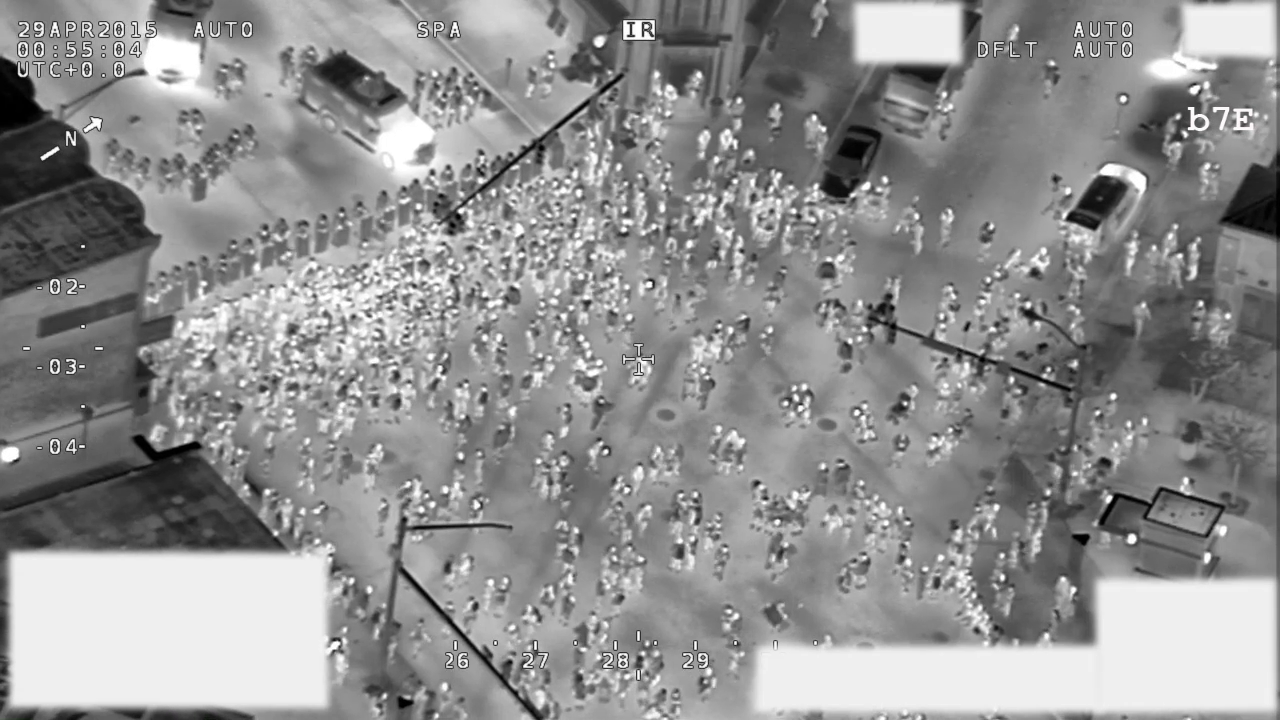vehicle: (293, 46, 440, 173), (1059, 161, 1154, 257), (815, 124, 886, 209)
